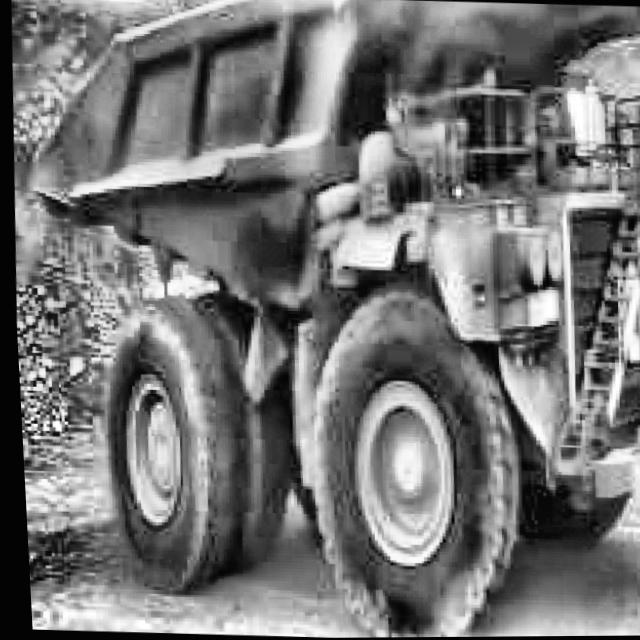dump_truck: (7, 0, 640, 640)
